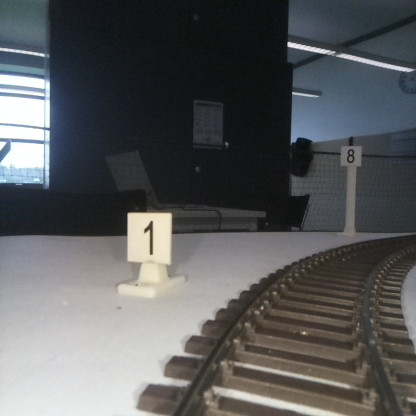white-info-8: (340, 145, 361, 234)
white-stop-1: (127, 213, 171, 293)
